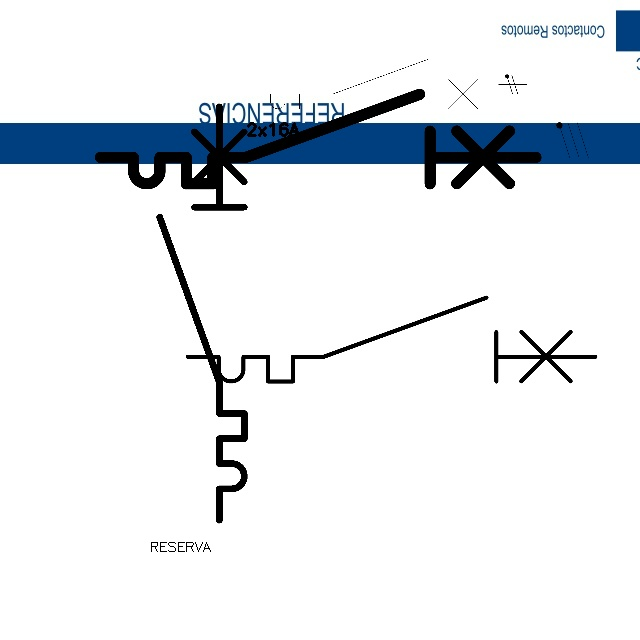interruptor_termomagnetico: (89, 83, 547, 195), (149, 96, 255, 531), (177, 287, 606, 392), (246, 53, 498, 115)
